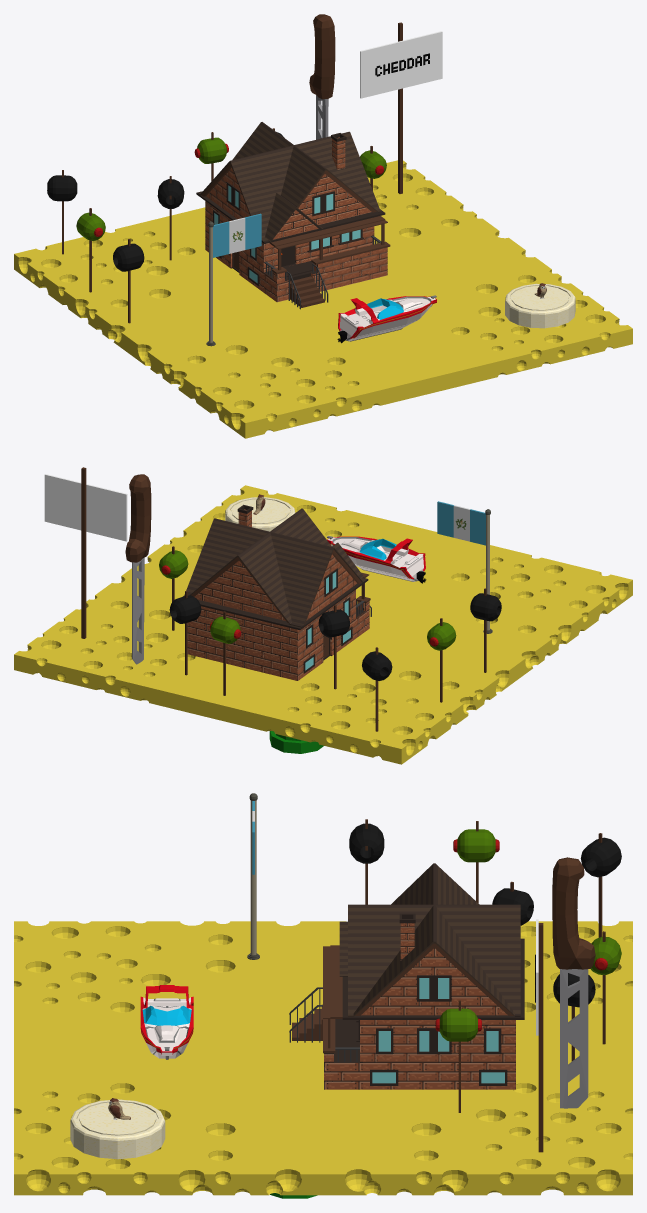
3 views of the same model, one above another, from view 1: azimuth 30°, elevation 25°; view 2: azimuth 150°, elevation 25°; view 3: azimuth 270°, elevation 25° (orthographic). The views are drawn at different scales.
Visible parts, largest first — view 1: Cube.022, Cube.469, Cube.023, VEHICLES_BOAT, Cylinder.016, Cube.024, OBJRANDOM_GUATEMALAN_FLAG, Sphere.017, Sphere.016, Sphere.020, Sphere.018, Sphere.022 (+1 smaller); view 2: Cube.022, Cube.469, Cube.023, Cube.024, VEHICLES_BOAT, OBJRANDOM_GUATEMALAN_FLAG, Cylinder.016, Sphere.016, Sphere.017, Sphere.020, Sphere.021, Sphere.022 (+3 smaller); view 3: Cube.022, Cube.469, Cube.024, Cylinder.016, VEHICLES_BOAT, Cube.023, Sphere.016, Sphere.019, Sphere.018, Sphere.017, Sphere.022, OBJRANDOM_GUATEMALAN_FLAG (+2 smaller).
Part boxes in pixels (box(x1,y1,x2,y2)): Cube.022: box(14, 160, 632, 438); Cube.469: box(196, 122, 390, 309); Cube.023: box(360, 22, 442, 193); VEHICLES_BOAT: box(337, 295, 436, 343); Cylinder.016: box(505, 283, 575, 328); Cube.024: box(309, 14, 335, 139); OBJRANDOM_GUATEMALAN_FLAG: box(206, 213, 261, 346); Sphere.017: box(113, 239, 144, 323); Sphere.016: box(47, 170, 77, 254); Sphere.020: box(157, 176, 184, 260); Sphere.018: box(76, 208, 105, 292); Sphere.022: box(194, 132, 228, 181); Cube.022: box(14, 485, 632, 764); Cube.469: box(183, 504, 371, 680); Cube.023: box(44, 467, 127, 638); Cube.024: box(125, 474, 151, 664); VEHICLES_BOAT: box(327, 535, 426, 583); OBJRANDOM_GUATEMALAN_FLAG: box(437, 501, 492, 633); Cylinder.016: box(225, 497, 295, 531); Sphere.016: box(362, 647, 392, 731); Sphere.017: box(470, 588, 501, 672); Sphere.020: box(318, 605, 349, 689); Sphere.021: box(169, 591, 201, 675); Sphere.022: box(209, 611, 241, 695); Cube.022: box(14, 921, 632, 1195); Cube.469: box(289, 863, 524, 1089); Cube.024: box(552, 857, 595, 1108); Cylinder.016: box(70, 1099, 165, 1159); VEHICLES_BOAT: box(140, 985, 193, 1059); Cube.023: box(535, 919, 543, 1152); Sphere.016: box(580, 833, 621, 937); Sphere.019: box(435, 1000, 481, 1112); Sphere.018: box(453, 821, 499, 903); Sphere.017: box(349, 819, 384, 904); Sphere.022: box(590, 931, 621, 1044); OBJRANDOM_GUATEMALAN_FLAG: box(247, 793, 259, 959).
Size of the model in its own units: 3917 by 2590 by 4000.
Materials: 35 (4 with a texture image).
